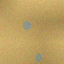person: (22, 20, 30, 29), (35, 53, 41, 62)
